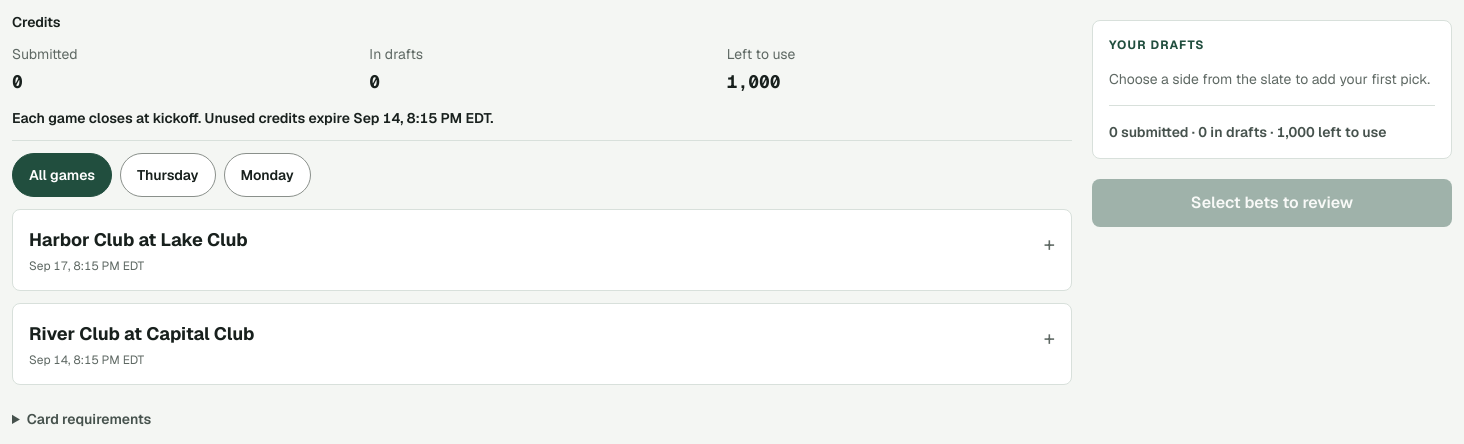
Test: rolling member submission flow › filters Thursday games using Eastern Time and restores the full slate
Click the button "Thursday" at (168, 175), box [120,153,216,197]
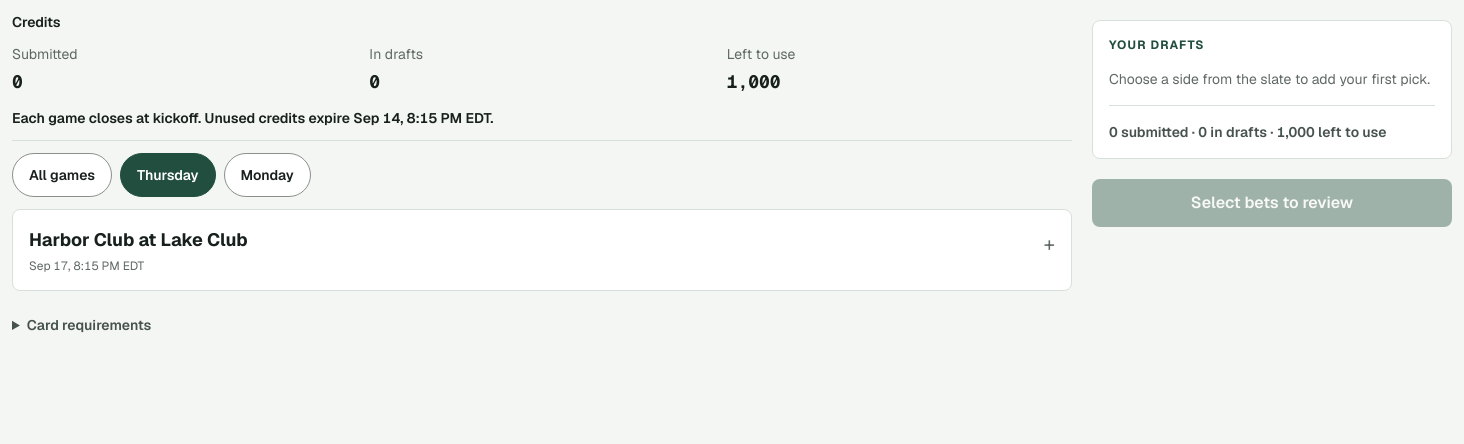
expect the element "Harbor Club at Lake Club" is shown: met, box [12,209,1072,291]
expect the heading "River Club at Capital Club" is gone: met
Click the button "All games" at (62, 175), box [12,153,112,197]
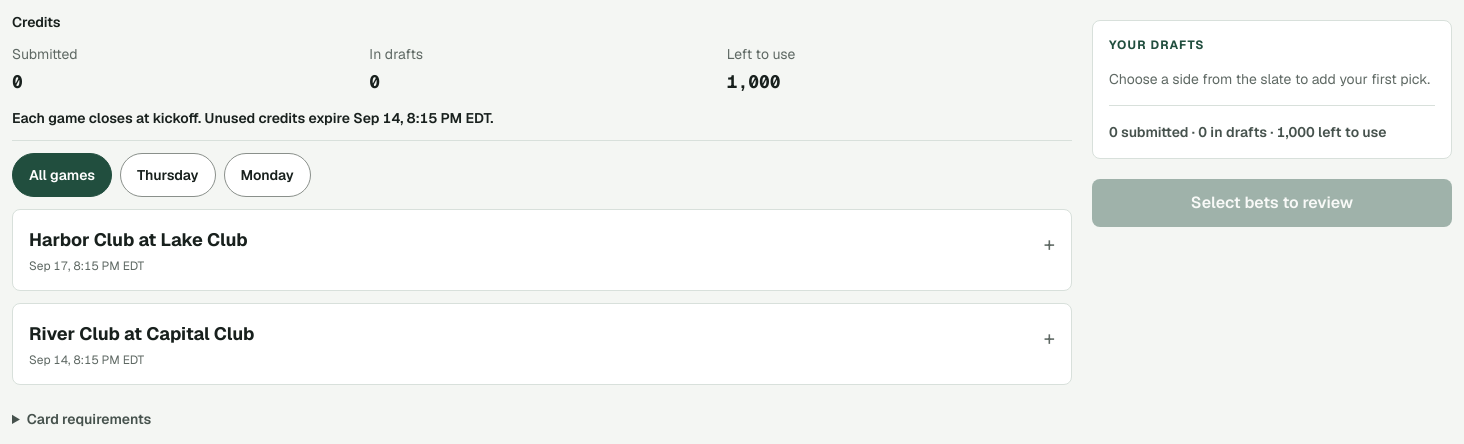
expect the element "River Club at Capital Club" is shown: met, box [12,303,1072,385]
